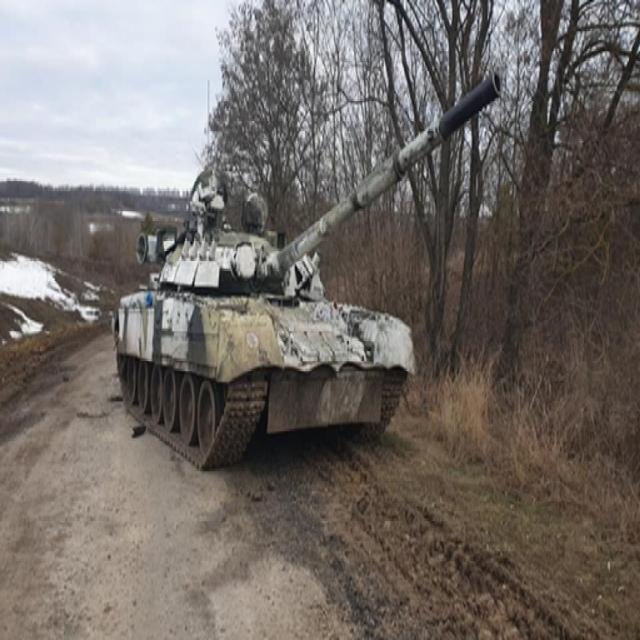TANK: (112, 66, 504, 478)
